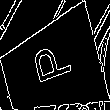P_W: (28, 43, 76, 92)
